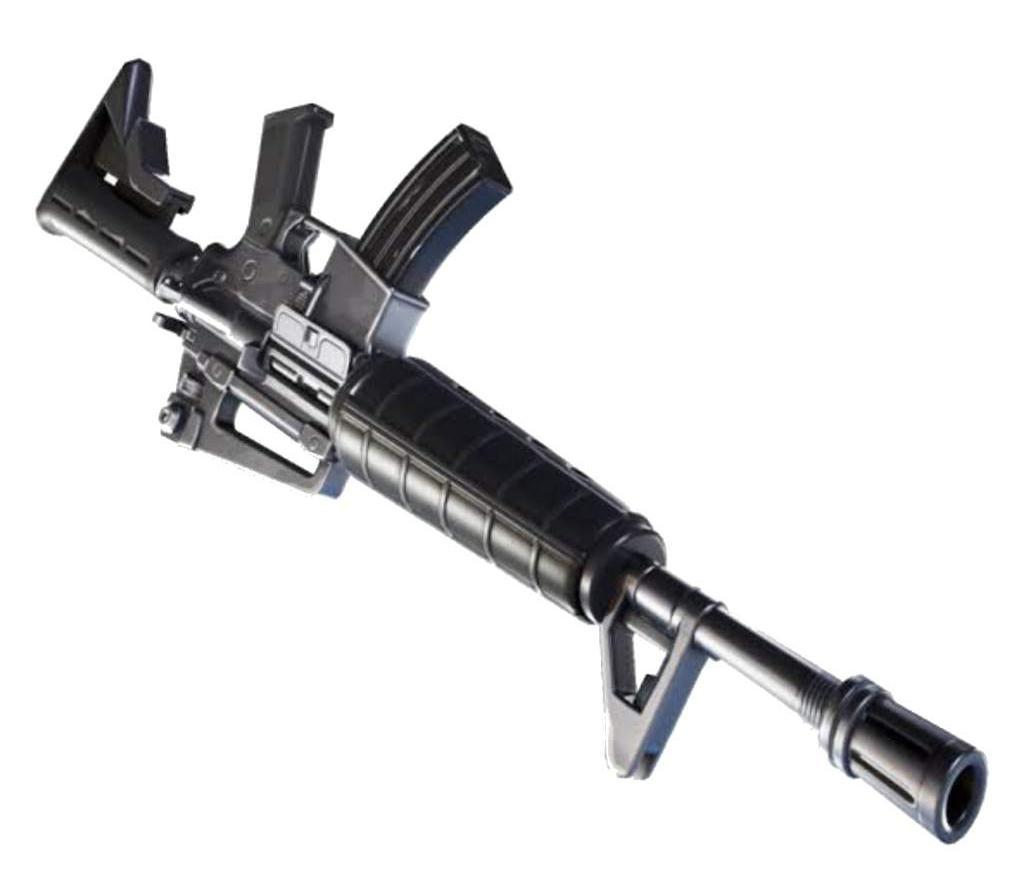larga: (37, 57, 989, 848)
